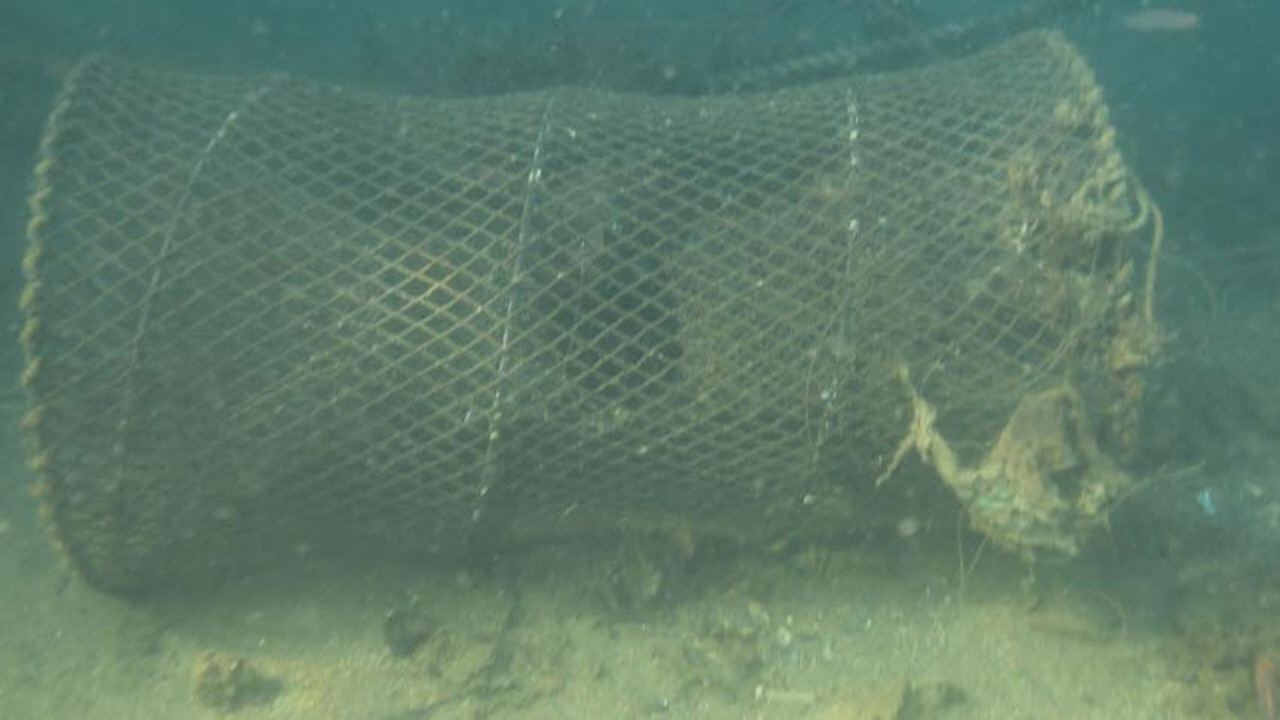spring fish trap: (16, 21, 1133, 608)
